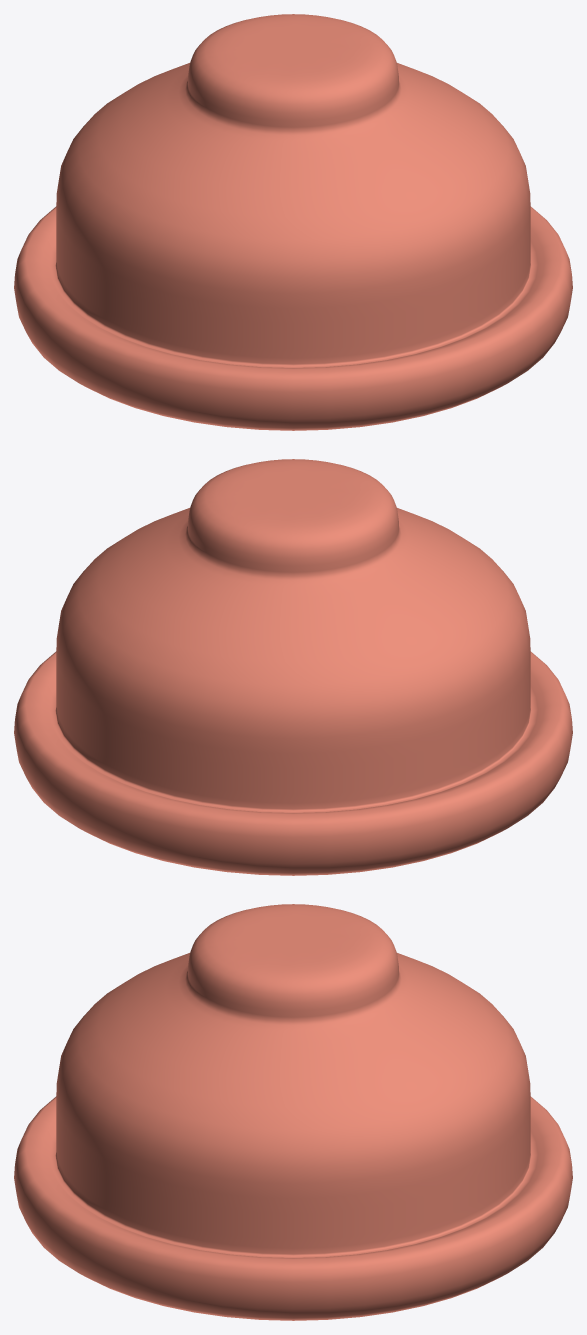
The model's file is Sucker.fbx.
3 views of the same model, one above another, from view 1: azimuth 30°, elevation 25°; view 2: azimuth 150°, elevation 25°; view 3: azimuth 270°, elevation 25° (orthographic).
Parts seen in each view (by area): view 1: Cylinder; view 2: Cylinder; view 3: Cylinder.
Part boxes in pixels (x1,y1,x2,y2): Cylinder: (14,14,572,430); Cylinder: (14,459,572,875); Cylinder: (14,904,572,1320).
Bounding box in the file's own units: 189 × 102 × 189.
